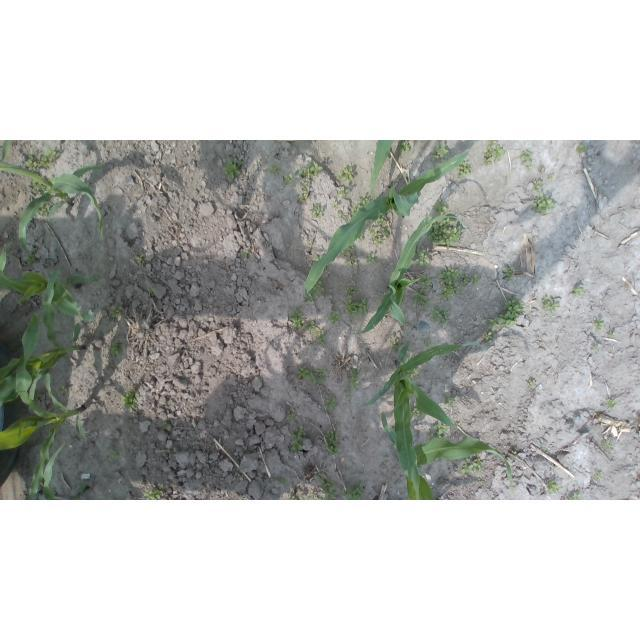Maize: (306, 151, 466, 292), (359, 339, 483, 500), (0, 312, 84, 500), (358, 213, 467, 337), (381, 412, 514, 501), (0, 268, 86, 405), (1, 163, 104, 252), (0, 245, 98, 324), (44, 442, 93, 500), (368, 140, 395, 200), (0, 140, 12, 162)
Weeds: (487, 300, 523, 329), (427, 219, 462, 248), (368, 215, 391, 247), (439, 268, 461, 301), (296, 367, 328, 386), (304, 280, 328, 303), (120, 387, 141, 413), (324, 428, 343, 456), (305, 321, 327, 345), (484, 140, 506, 164), (532, 193, 555, 215), (316, 476, 336, 501), (297, 161, 324, 179), (223, 158, 245, 180), (290, 425, 307, 453), (461, 457, 484, 477), (40, 147, 61, 168), (288, 305, 305, 330), (344, 298, 369, 315), (31, 178, 52, 198), (340, 483, 364, 500), (432, 308, 453, 325), (542, 296, 561, 314), (413, 290, 431, 309), (414, 248, 432, 267), (144, 484, 164, 500), (428, 424, 449, 439), (432, 143, 448, 161), (111, 339, 127, 357), (336, 165, 355, 180), (23, 151, 37, 171), (520, 150, 533, 171), (457, 161, 472, 178), (310, 203, 325, 219), (433, 200, 449, 215), (418, 275, 432, 292), (323, 395, 337, 411), (327, 310, 343, 324), (35, 203, 51, 217), (105, 447, 121, 461), (349, 369, 360, 389), (546, 480, 560, 494), (397, 140, 411, 154), (390, 339, 405, 352), (411, 408, 426, 421), (110, 305, 125, 318), (445, 392, 456, 409), (501, 268, 515, 281), (284, 172, 297, 185), (23, 253, 38, 264), (338, 187, 350, 200), (344, 257, 358, 268), (607, 399, 619, 411), (603, 440, 614, 452), (595, 320, 606, 332), (574, 285, 585, 297), (267, 164, 281, 173), (288, 492, 303, 500), (351, 204, 361, 216), (311, 254, 324, 263), (568, 493, 584, 500), (345, 288, 359, 296), (411, 369, 421, 380), (481, 332, 493, 341), (575, 145, 587, 154), (147, 288, 159, 297), (533, 181, 543, 191), (135, 254, 145, 264), (358, 196, 369, 205), (301, 180, 310, 191), (472, 274, 481, 285), (526, 379, 535, 389), (58, 386, 68, 395), (338, 212, 348, 221), (461, 274, 470, 284), (343, 388, 352, 397), (595, 471, 604, 480), (368, 254, 377, 263), (424, 339, 432, 349), (308, 492, 318, 500), (338, 248, 348, 256), (298, 194, 309, 201), (280, 476, 288, 485), (240, 250, 248, 259), (287, 412, 295, 420), (592, 345, 601, 352), (608, 333, 616, 340), (332, 201, 340, 208), (92, 276, 100, 283), (30, 247, 38, 253), (541, 445, 547, 452), (349, 244, 356, 249), (479, 480, 485, 485), (511, 451, 517, 456), (360, 234, 365, 240), (549, 174, 554, 180), (163, 424, 169, 429), (450, 440, 455, 444)
